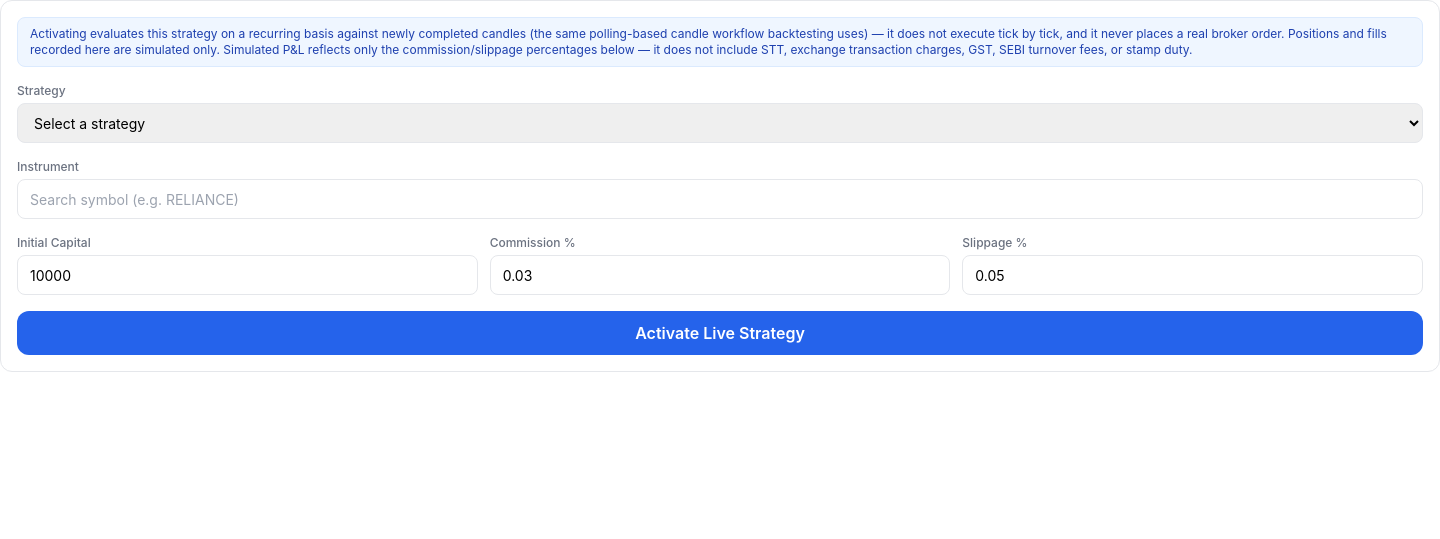
it: LiveActivationForm › a generic server error (500) is surfaced without crashing the form
Select "RSI Mean Reversion" in the dropdown showing "Select a strategy": (720, 123) [17, 103, 1423, 143]
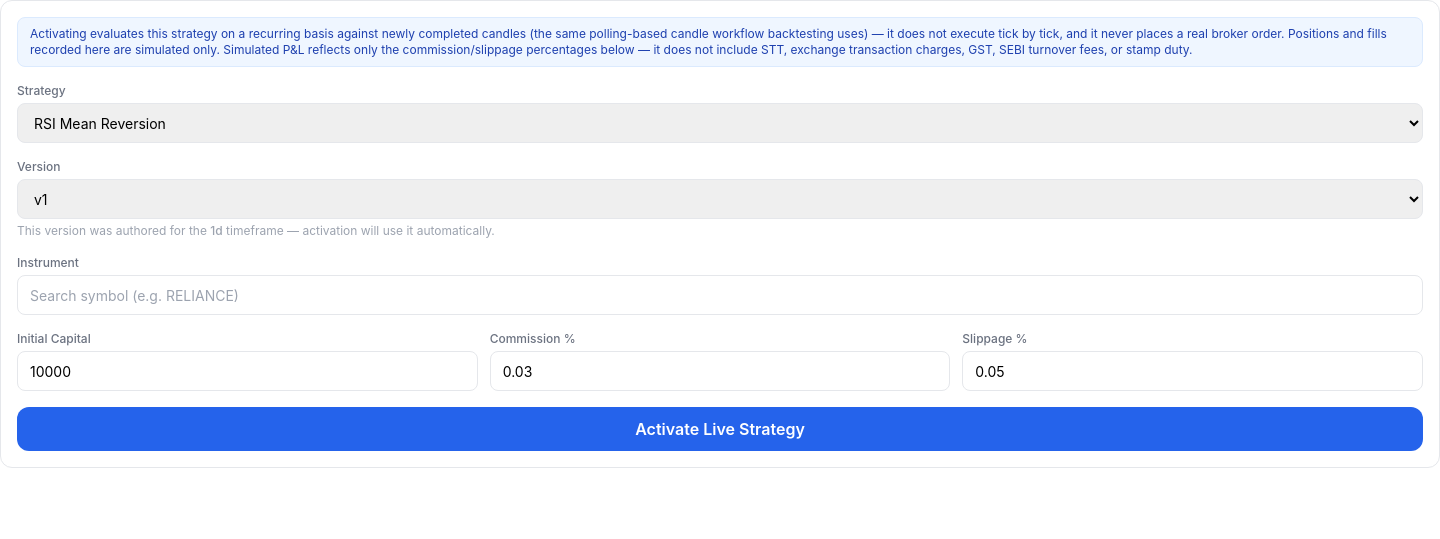
Expected: the text "authored for the" is shown, [17, 223, 210, 238]
In the field with placeholder "Search symbol (e.g. RELIANCE)": (720, 295) [17, 275, 1423, 315], type "RELIANCE"
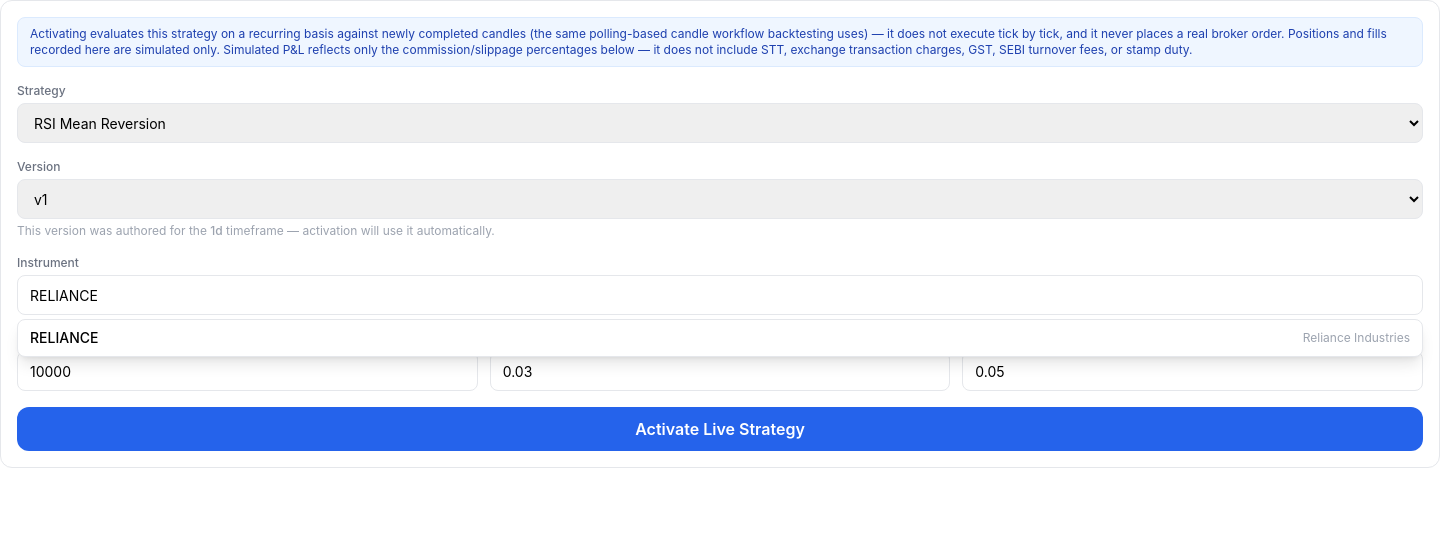
Expected: the text "RELIANCE" is shown
Click the text "RELIANCE": (64, 338) [30, 328, 98, 348]
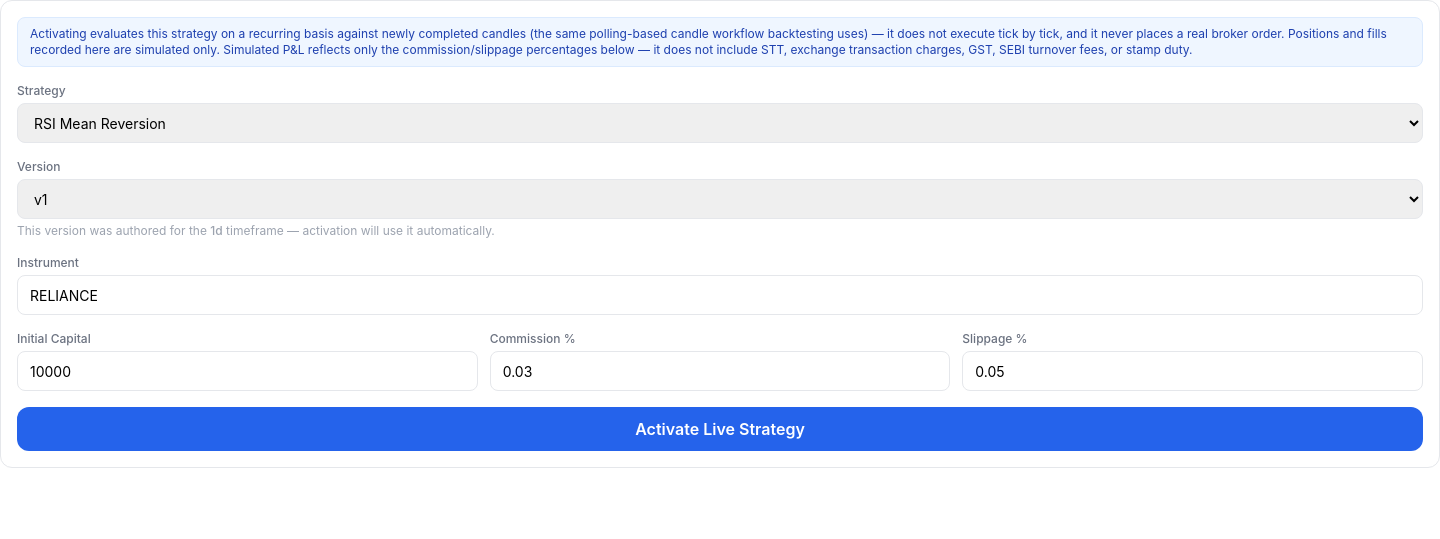
Click the button "Activate Live Strategy": (720, 429) [17, 407, 1423, 451]
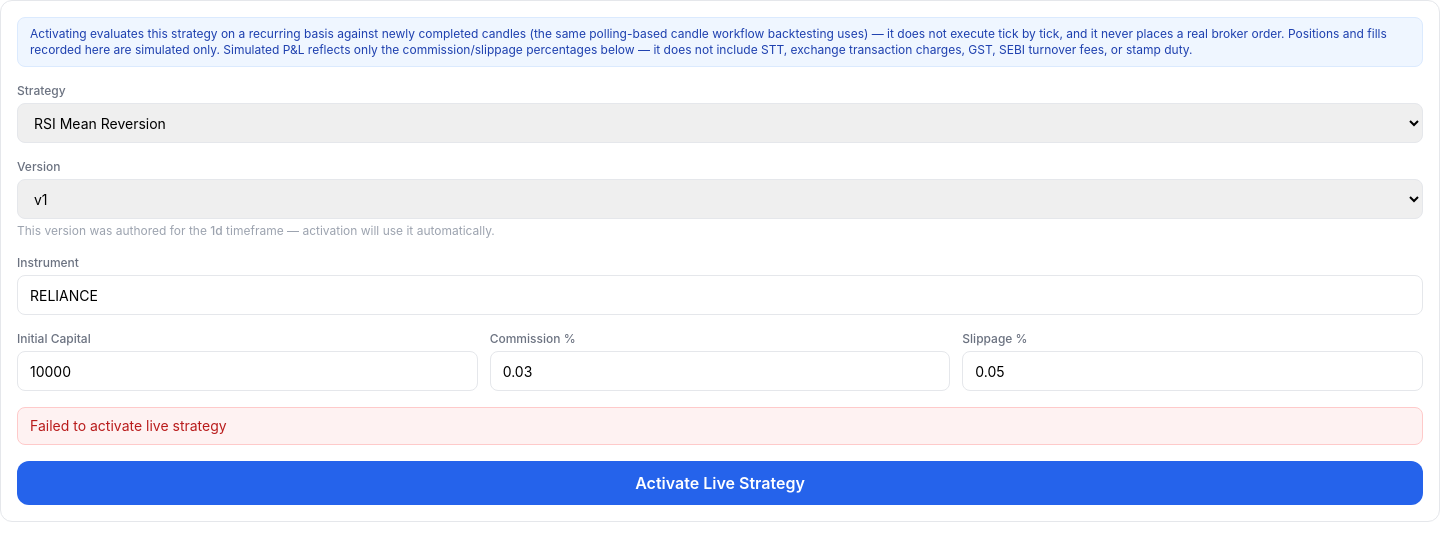
Expected: the text "Failed to activate live strategy" is shown, [17, 407, 1423, 445]
